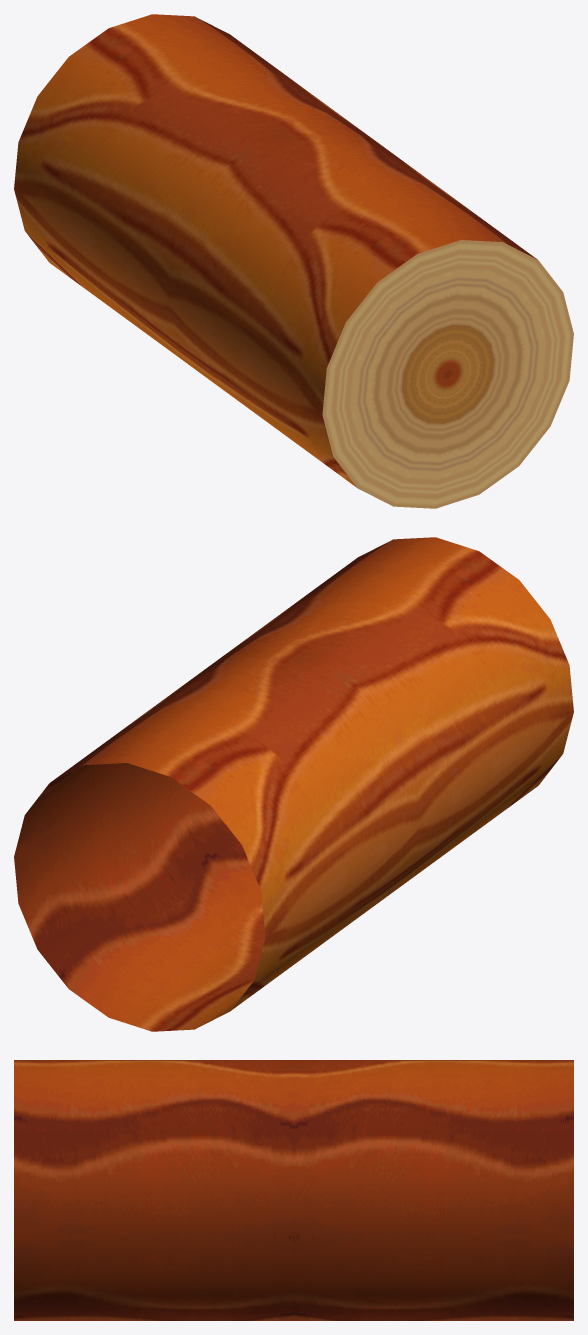
The model's file is yuanmu.FBX.
3 renders of one model, top to bottom at view 1: azimuth 30°, elevation 25°; view 2: azimuth 150°, elevation 25°; view 3: azimuth 270°, elevation 25°, orthographic. The views are drawn at different scales.
Visible parts, largest first — view 1: dayuanmu_03; view 2: dayuanmu_03; view 3: dayuanmu_03.
Boxes of the visible parts, x1,y1,x2,y2 form: dayuanmu_03: (14, 14, 573, 508); dayuanmu_03: (14, 537, 573, 1031); dayuanmu_03: (14, 1060, 573, 1320).
Bounding box in the file's own units: 31.58 × 31.5 × 67.06.
